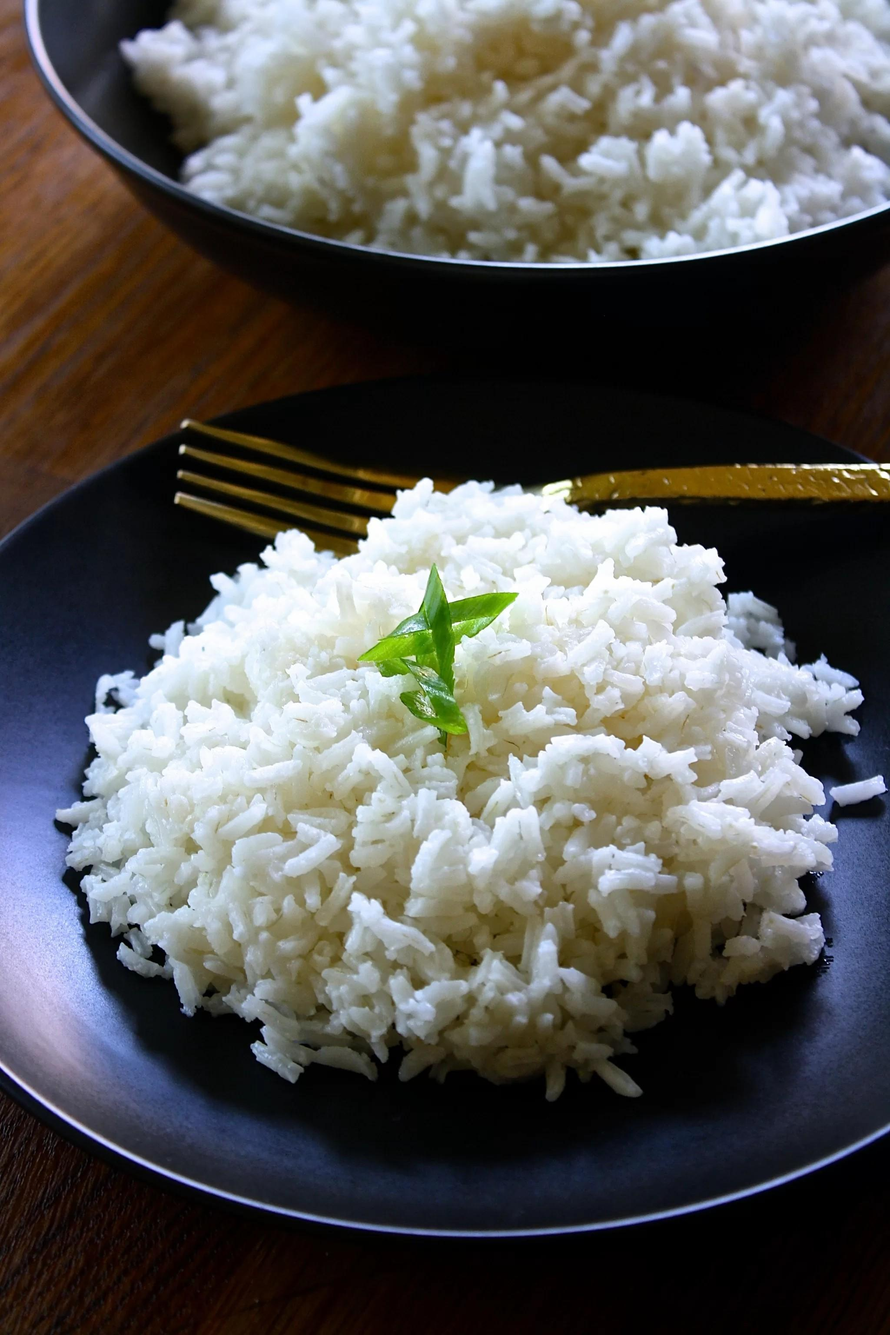WhiteRice: (59, 477, 890, 1099)
